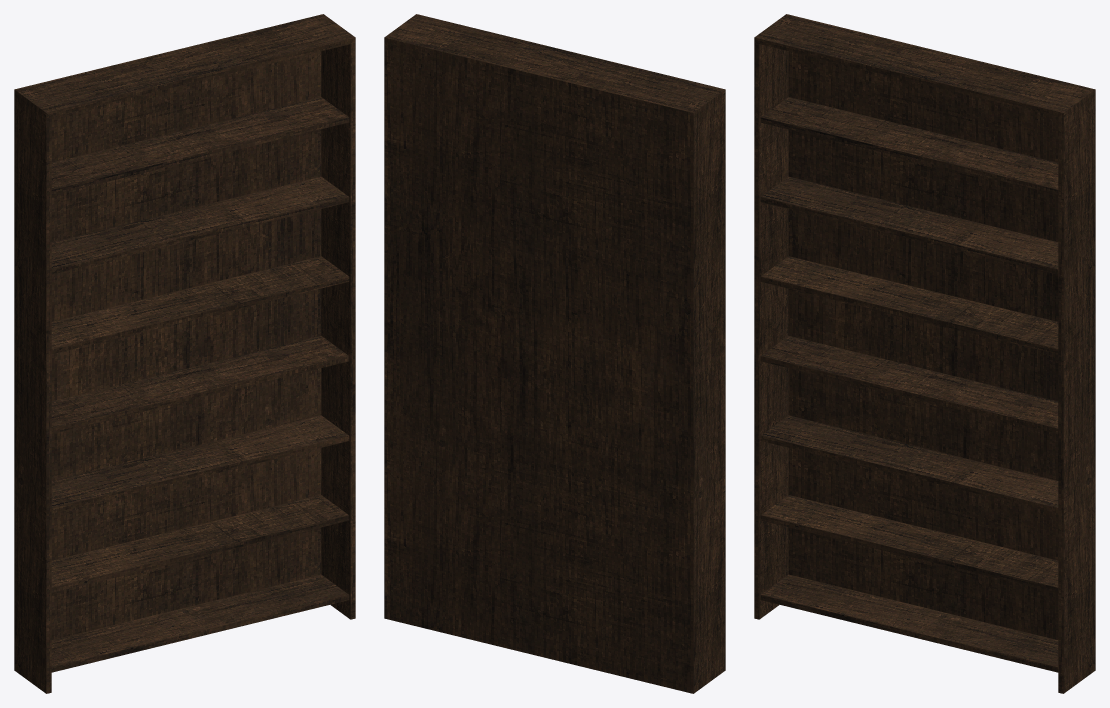
The model's file is shelf_mp_4_1.glb.
3 renders of one model, left to right at view 1: azimuth 30°, elevation 25°; view 2: azimuth 150°, elevation 25°; view 3: azimuth 330°, elevation 25°, orthographic.
Visible parts, largest first — view 1: shelf_mp_4_1; view 2: shelf_mp_4_1; view 3: shelf_mp_4_1.
Boxes of the visible parts, bbox=[...] form: shelf_mp_4_1: bbox=[14, 14, 355, 693]; shelf_mp_4_1: bbox=[384, 14, 725, 693]; shelf_mp_4_1: bbox=[754, 14, 1095, 693].
Bounding box in the file's own units: 1.22 × 2.19 × 0.22.
Materials: 1 (1 with a texture image).
